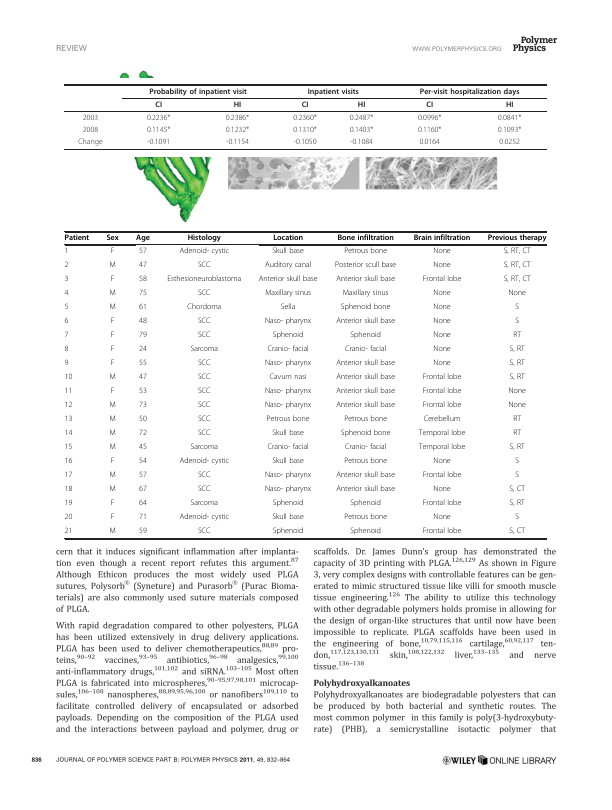borderless: (63, 230, 546, 538), (64, 83, 547, 149)
cell: (419, 87, 520, 96), (148, 87, 248, 96), (166, 275, 242, 285), (334, 261, 397, 271), (335, 275, 396, 285), (335, 317, 396, 327), (335, 359, 396, 369), (335, 373, 396, 383), (335, 387, 396, 397), (335, 401, 396, 411), (335, 471, 396, 481), (335, 485, 396, 495), (258, 275, 318, 285), (487, 234, 547, 243), (336, 234, 395, 243), (413, 234, 471, 243), (178, 247, 230, 257), (178, 457, 230, 467), (178, 513, 230, 523), (340, 303, 391, 313), (340, 429, 391, 439), (264, 261, 312, 271), (264, 289, 312, 299), (264, 317, 312, 327), (264, 359, 312, 369), (264, 387, 312, 397), (264, 401, 312, 411), (418, 429, 466, 439), (418, 443, 466, 453), (264, 471, 312, 481), (264, 485, 312, 495), (307, 87, 360, 96), (342, 289, 389, 299), (343, 247, 388, 257), (343, 415, 388, 425), (343, 457, 388, 467), (343, 513, 388, 523), (266, 345, 310, 355), (266, 415, 310, 425), (266, 443, 310, 453), (344, 345, 387, 355), (344, 443, 387, 453), (422, 275, 462, 285), (268, 373, 308, 383), (422, 373, 462, 383), (422, 387, 462, 397), (422, 401, 462, 411), (422, 471, 462, 481), (422, 499, 462, 509), (422, 527, 462, 537), (423, 415, 461, 425), (186, 303, 222, 313), (271, 247, 305, 257), (271, 429, 305, 439), (271, 457, 305, 467), (271, 513, 305, 523), (349, 331, 382, 341), (349, 499, 382, 509), (349, 527, 382, 537), (272, 331, 304, 341), (272, 499, 304, 509), (272, 527, 304, 537), (187, 234, 222, 243), (189, 345, 219, 355), (189, 443, 219, 453), (189, 499, 219, 509), (503, 247, 532, 257), (503, 261, 532, 271), (503, 275, 532, 285), (272, 234, 304, 243), (77, 137, 104, 147), (292, 113, 318, 123), (292, 125, 318, 135), (146, 113, 171, 123), (225, 113, 250, 123), (349, 113, 374, 123), (417, 113, 442, 123), (497, 113, 522, 123), (146, 125, 171, 135), (225, 125, 250, 135), (349, 125, 374, 135), (417, 125, 442, 135), (497, 125, 522, 135), (146, 137, 171, 147), (225, 137, 250, 147), (349, 137, 374, 147), (293, 137, 317, 147), (64, 234, 90, 243), (418, 137, 441, 147), (498, 137, 521, 147), (432, 247, 452, 257), (432, 261, 452, 271), (432, 289, 452, 299), (507, 289, 527, 299), (432, 303, 452, 313), (432, 317, 452, 327), (432, 331, 452, 341), (432, 345, 452, 355), (432, 359, 452, 369), (507, 387, 527, 397), (507, 401, 527, 411), (432, 457, 452, 467), (432, 485, 452, 495), (432, 513, 452, 523), (508, 485, 526, 495), (508, 527, 526, 537), (82, 113, 99, 123), (82, 125, 99, 135), (509, 345, 526, 355), (509, 359, 526, 369), (509, 373, 526, 383), (509, 443, 526, 453), (509, 499, 526, 509), (280, 303, 296, 313), (135, 234, 151, 243), (197, 261, 211, 271), (197, 289, 211, 299), (197, 317, 211, 327), (197, 331, 211, 341), (197, 359, 211, 369), (197, 373, 211, 383), (197, 387, 211, 397), (197, 401, 211, 411), (197, 415, 211, 425), (197, 429, 211, 439), (197, 471, 211, 481), (197, 485, 211, 495), (197, 527, 211, 537), (105, 234, 120, 243), (138, 247, 148, 257), (138, 261, 148, 271), (138, 275, 148, 285), (138, 289, 148, 299), (138, 303, 148, 313), (138, 317, 148, 327), (138, 331, 148, 341), (512, 331, 522, 341), (138, 345, 148, 355), (138, 359, 148, 369), (138, 373, 148, 383), (138, 387, 148, 397), (138, 401, 148, 411), (138, 415, 148, 425), (512, 415, 522, 425), (138, 429, 148, 439), (512, 429, 522, 439), (138, 443, 148, 453), (138, 457, 148, 467), (138, 471, 148, 481), (138, 485, 148, 495), (138, 499, 148, 509), (138, 513, 148, 523), (138, 527, 148, 537), (154, 100, 163, 110), (233, 100, 242, 110), (357, 100, 366, 110), (425, 100, 434, 110), (505, 100, 514, 110), (108, 261, 117, 271), (108, 289, 117, 299), (108, 303, 117, 313), (64, 373, 73, 383), (108, 373, 117, 383), (64, 387, 73, 397), (64, 401, 73, 411), (108, 401, 117, 411), (64, 415, 73, 425), (108, 415, 117, 425), (64, 429, 73, 439), (108, 429, 117, 439), (64, 443, 73, 453), (108, 443, 117, 453), (64, 457, 73, 467), (64, 471, 73, 481), (108, 471, 117, 481), (64, 485, 73, 495), (108, 485, 117, 495), (64, 499, 73, 509), (64, 513, 73, 523), (64, 527, 73, 537), (108, 527, 117, 537), (301, 100, 309, 110), (514, 303, 520, 313), (514, 317, 520, 327), (514, 457, 520, 467), (514, 471, 520, 481), (514, 513, 520, 523), (64, 247, 69, 257), (110, 247, 115, 257), (64, 261, 69, 271), (64, 275, 69, 285), (110, 275, 115, 285), (64, 289, 69, 299), (64, 303, 69, 313), (64, 317, 69, 327), (110, 317, 115, 327), (64, 331, 69, 341), (110, 331, 115, 341), (64, 345, 69, 355), (110, 345, 115, 355), (64, 359, 69, 369), (110, 359, 115, 369), (110, 387, 115, 397), (110, 457, 115, 467), (110, 499, 115, 509), (110, 513, 115, 523)
